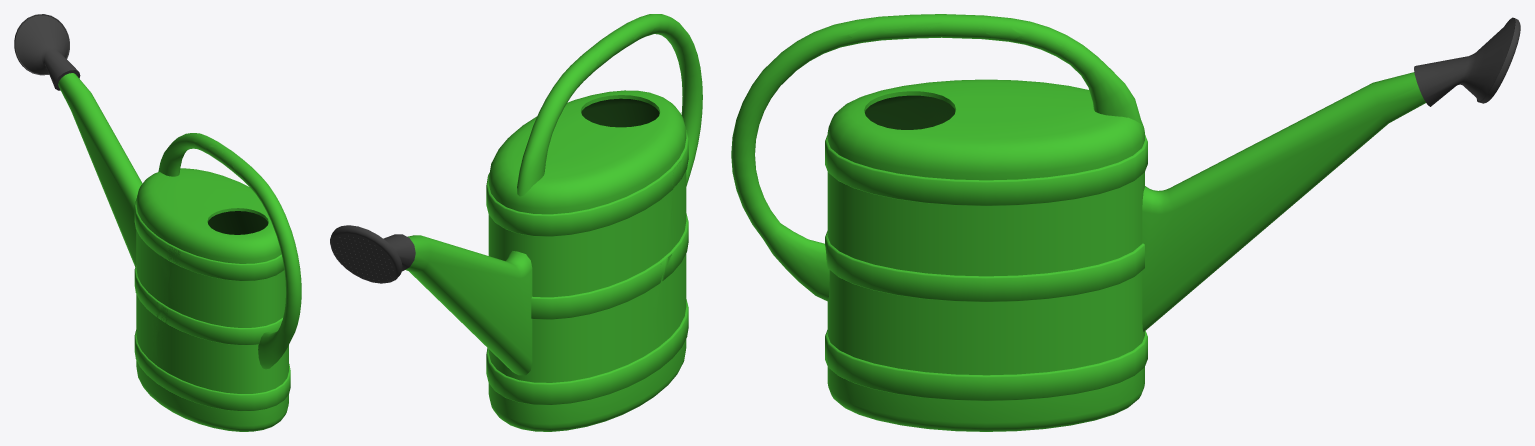
File: Funel.fbx
The picture shows the model from 3 angles, left to right: view 1: azimuth 30°, elevation 25°; view 2: azimuth 150°, elevation 25°; view 3: azimuth 270°, elevation 25°; orthographic projection. The views are drawn at different scales.
Visible parts, largest first — view 1: SM_funel_level4, SM_funel_level1, SM_funel_level5, SM_funel_level3, SM_funel_level2; view 2: SM_funel_level4, SM_funel_level1, SM_funel_level3, SM_funel_level5, SM_funel_level2; view 3: SM_funel_level4, SM_funel_level1, SM_funel_level5.
Boxes of the visible parts, left/top/right/bottom form: SM_funel_level4: left=16, top=15, right=301, bottom=431; SM_funel_level1: left=14, top=14, right=242, bottom=372; SM_funel_level5: left=60, top=73, right=259, bottom=372; SM_funel_level3: left=148, top=141, right=230, bottom=368; SM_funel_level2: left=156, top=141, right=226, bottom=371; SM_funel_level4: left=383, top=14, right=702, bottom=431; SM_funel_level1: left=330, top=27, right=679, bottom=354; SM_funel_level3: left=334, top=36, right=672, bottom=352; SM_funel_level5: left=405, top=17, right=681, bottom=355; SM_funel_level2: left=333, top=39, right=672, bottom=343; SM_funel_level4: left=731, top=14, right=1514, bottom=431; SM_funel_level1: left=880, top=14, right=1520, bottom=125; SM_funel_level5: left=835, top=18, right=1425, bottom=127.
Bounding box in the file's own units: 34.43 × 139 × 74.37.
